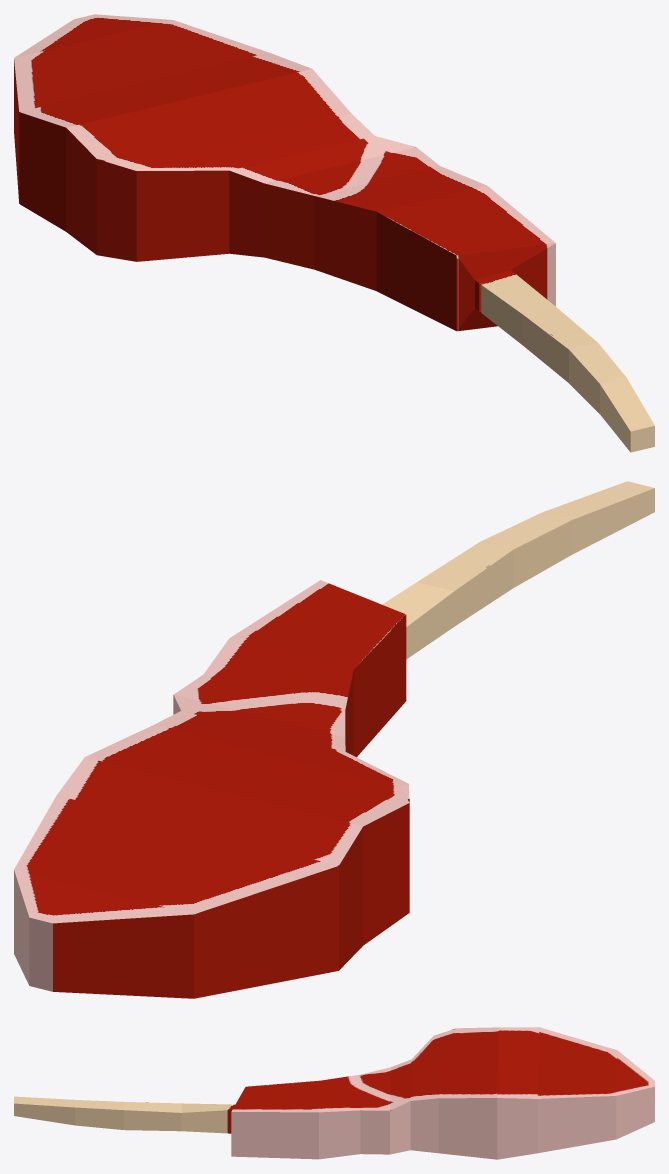
The model's file is Lamb.Ani.fbx.
3 renders of one model, top to bottom at view 1: azimuth 30°, elevation 25°; view 2: azimuth 150°, elevation 25°; view 3: azimuth 270°, elevation 25°, orthographic. The views are drawn at different scales.
Visible parts, largest first — view 1: Lamb; view 2: Lamb; view 3: Lamb.
Part boxes in pixels (x1=…): Lamb: x1=14, y1=14, x2=654, y2=452; Lamb: x1=14, y1=481, x2=654, y2=998; Lamb: x1=14, y1=1027, x2=654, y2=1159.
Size of the model in its own units: 106 by 37.31 by 351.
Materials: 1 (1 with a texture image).
